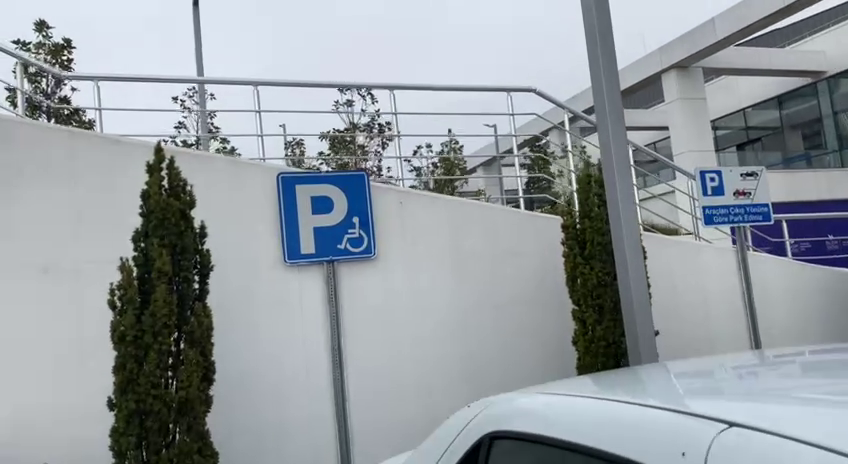parking: (275, 168, 379, 266), (698, 168, 726, 198)
